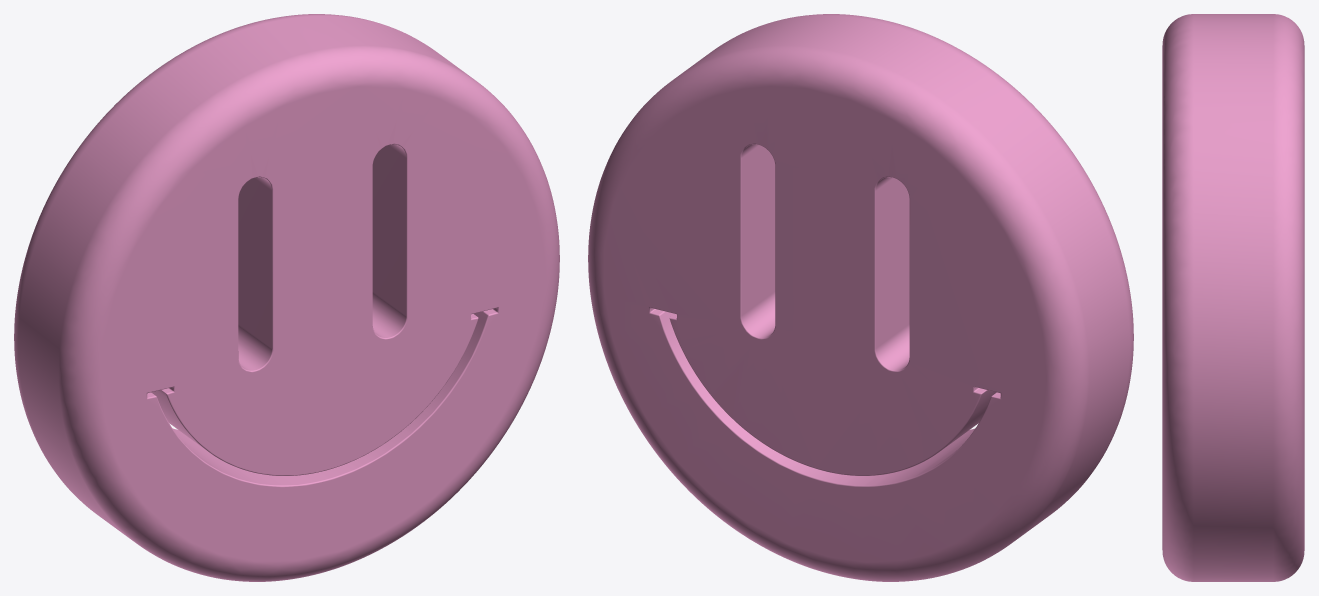
The model's file is smiley-web.glb.
3 views of the same model, side by side, from view 1: azimuth 30°, elevation 25°; view 2: azimuth 150°, elevation 25°; view 3: azimuth 270°, elevation 25° (orthographic).
Parts seen in each view (by area): view 1: Smiley.001; view 2: Smiley.001; view 3: Smiley.001.
Boxes of the visible parts, bbox=[...] form: Smiley.001: bbox=[14, 14, 559, 581]; Smiley.001: bbox=[588, 14, 1133, 581]; Smiley.001: bbox=[1162, 14, 1304, 581].
Size of the model in its own units: 2 by 2 by 0.5.
